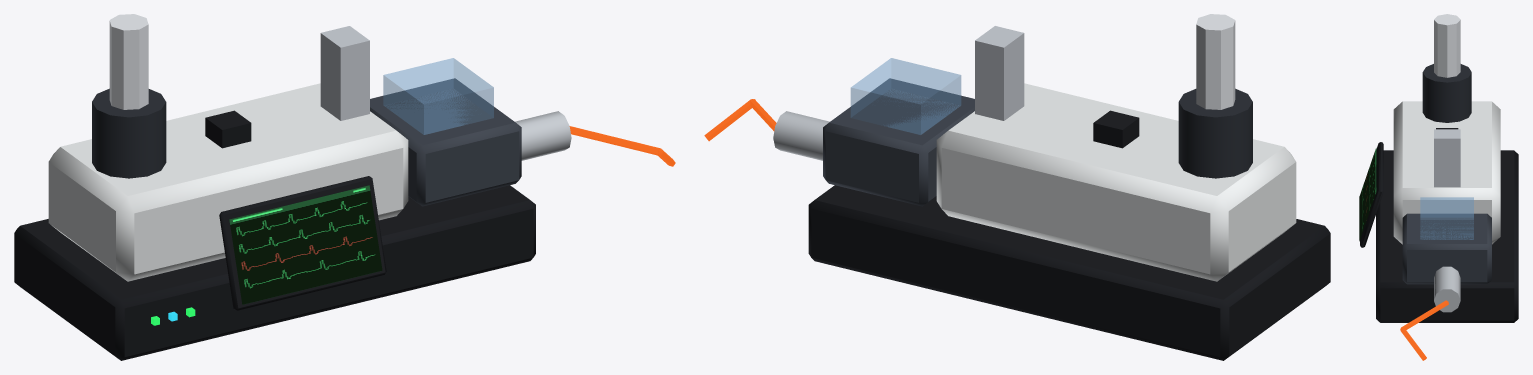
Rendered from analyzer_spectrometer.glb.
3 views of the same model, side by side, from view 1: azimuth 30°, elevation 25°; view 2: azimuth 150°, elevation 25°; view 3: azimuth 270°, elevation 25° (orthographic). The views are drawn at different scales.
Visible parts, largest first — view 1: analyzer_spectrometer; view 2: analyzer_spectrometer; view 3: analyzer_spectrometer.
Part boxes in pixels (x1=…): analyzer_spectrometer: x1=14, y1=14, x2=675, y2=360; analyzer_spectrometer: x1=704, y1=14, x2=1330, y2=360; analyzer_spectrometer: x1=1359, y1=14, x2=1518, y2=360.
Bounding box in the file's own units: 1.01 × 0.47 × 0.3571.
Materials: 12 (1 with a texture image).
